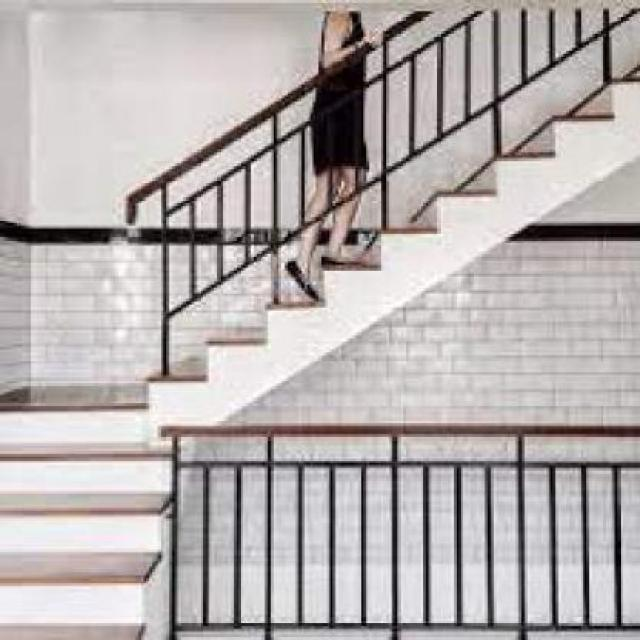stair: (0, 427, 178, 636)
